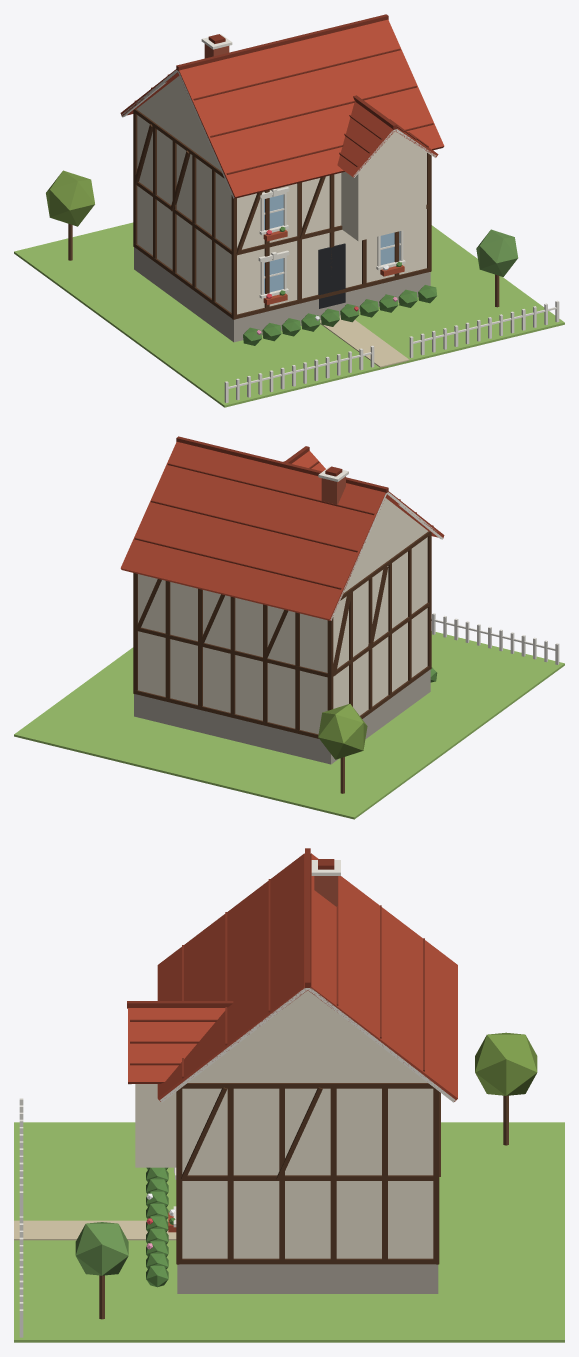
The model's file is Konut_konak_1_Hafif.fbx.
The picture shows the model from 3 angles, top to bottom: view 1: azimuth 30°, elevation 25°; view 2: azimuth 150°, elevation 25°; view 3: azimuth 270°, elevation 25°; orthographic projection. The views are drawn at different scales.
Visible parts, largest first — view 1: Konut_konak_1_Hafif; view 2: Konut_konak_1_Hafif; view 3: Konut_konak_1_Hafif.
Boxes of the visible parts, x1,y1,x2,y2 form: Konut_konak_1_Hafif: (14,14,564,407); Konut_konak_1_Hafif: (14,436,564,819); Konut_konak_1_Hafif: (14,848,564,1342).
Bounding box in the file's own units: 14 × 10.04 × 15.
